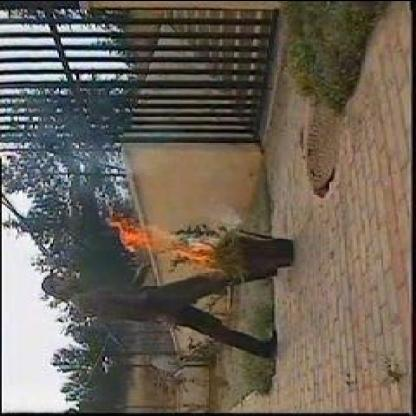-: (210, 200, 240, 232)
foggia-v2-map80-epoch100 - v1 4323: (110, 218, 210, 262)
